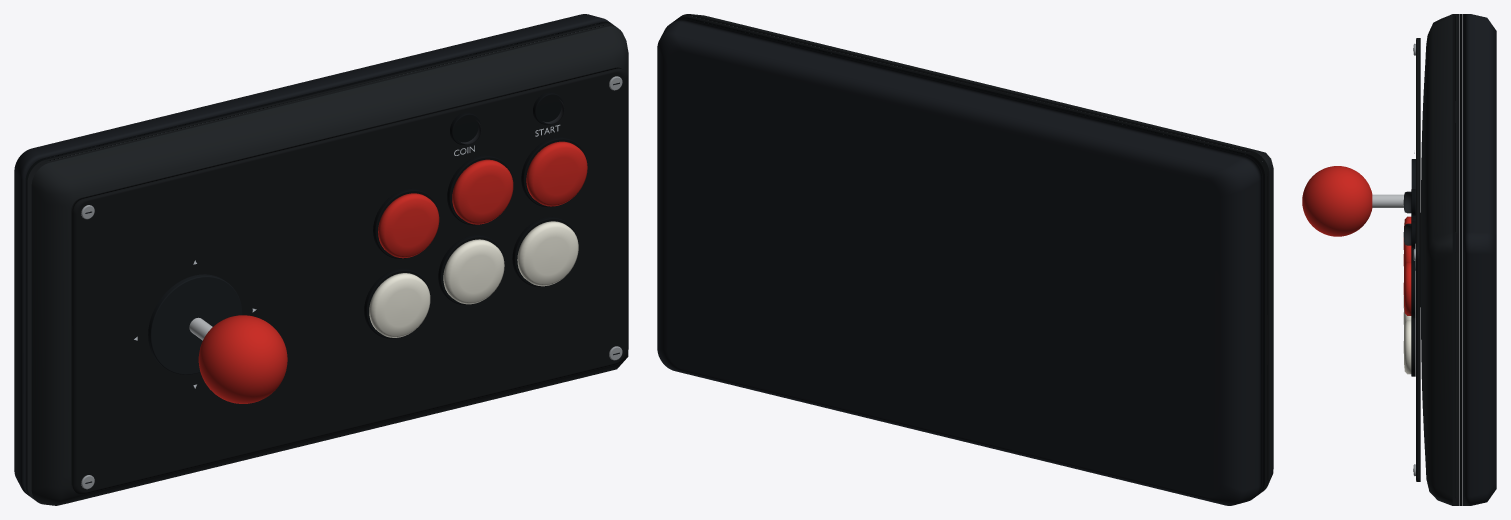
Rendered from arcade.glb.
3 renders of one model, left to right at view 1: azimuth 30°, elevation 25°; view 2: azimuth 150°, elevation 25°; view 3: azimuth 270°, elevation 25°, orthographic. The views are drawn at different scales.
Parts seen in each view (by area): view 1: arcade_top_panel, shell_surface, shell_lower, joystick_ball, joystick_dust_washer, shell_edge, button_10_cap, button_8_cap, button_11_cap, button_0_cap, button_9_cap, button_1_cap (+3 smaller); view 2: shell_lower, shell_edge, shell_surface, shell_seam; view 3: shell_lower, shell_surface, joystick_ball, shell_edge, arcade_top_panel, shell_seam, joystick_shaft, button_11_cap, button_10_cap, button_11_socket, button_10_socket.
Boxes of the visible parts, x1,y1,x2,y2 form: arcade_top_panel: (71, 67, 627, 494); shell_surface: (31, 26, 628, 505); shell_lower: (14, 14, 610, 496); joystick_ball: (198, 315, 287, 403); joystick_dust_washer: (148, 274, 242, 374); shell_edge: (27, 23, 617, 500); button_10_cap: (526, 141, 587, 206); button_8_cap: (443, 239, 504, 304); button_11_cap: (517, 221, 578, 286); button_0_cap: (369, 273, 430, 337); button_9_cap: (452, 159, 513, 224); button_1_cap: (378, 193, 439, 258); shell_lower: (657, 18, 1262, 505); shell_edge: (678, 14, 1269, 492); shell_surface: (693, 14, 1273, 482); shell_seam: (676, 17, 1264, 494); shell_lower: (1462, 14, 1496, 505); shell_surface: (1420, 14, 1452, 505); joystick_ball: (1302, 166, 1372, 236); shell_edge: (1452, 14, 1458, 505); arcade_top_panel: (1416, 38, 1420, 481); shell_seam: (1459, 14, 1462, 505); joystick_shaft: (1372, 194, 1403, 207); button_11_cap: (1403, 320, 1411, 374); button_10_cap: (1403, 262, 1411, 315); button_11_socket: (1411, 318, 1415, 376); button_10_socket: (1411, 259, 1415, 318).
Bounding box in the file's own units: 2 × 1.1 × 0.713.
